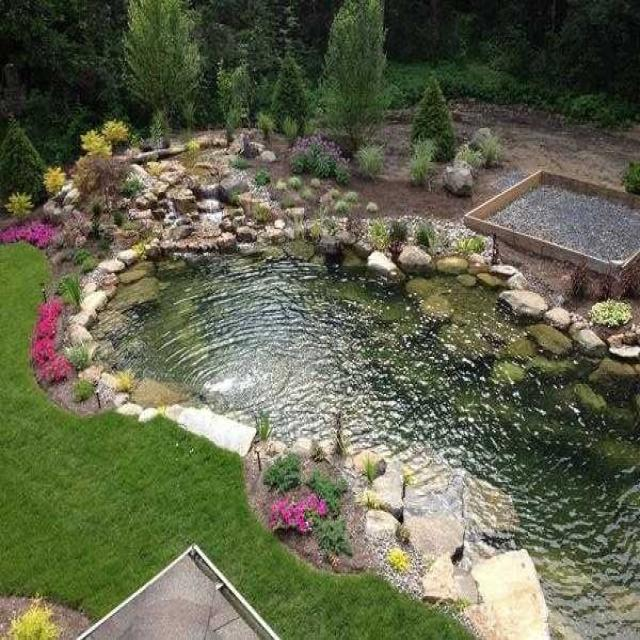Ponds: (66, 220, 639, 640)
